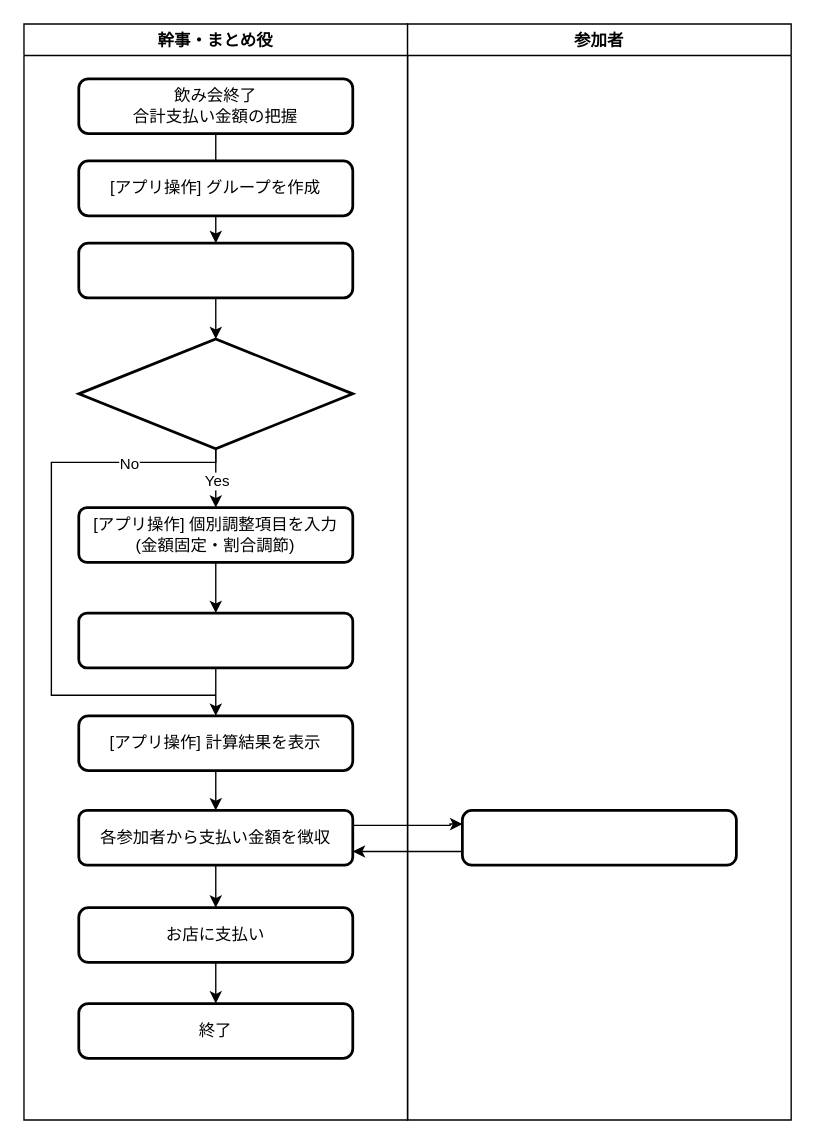
The diagram is 815 pixels wide and 1144 high, and some of its shapes have lost their labels. Here are the shapes that lost their labels. From the top down, the centre of each, then its label:
At point 215,270: "[アプリ操作] グループ名・参加人数・支払金額を入力".
At point 215,393: "支払い量の調整が必要な 参加者がいる".
At point 215,640: "[アプリ操作] 支払金額の再計算を実施".
At point 598,837: "支払金額を幹事に提出".
